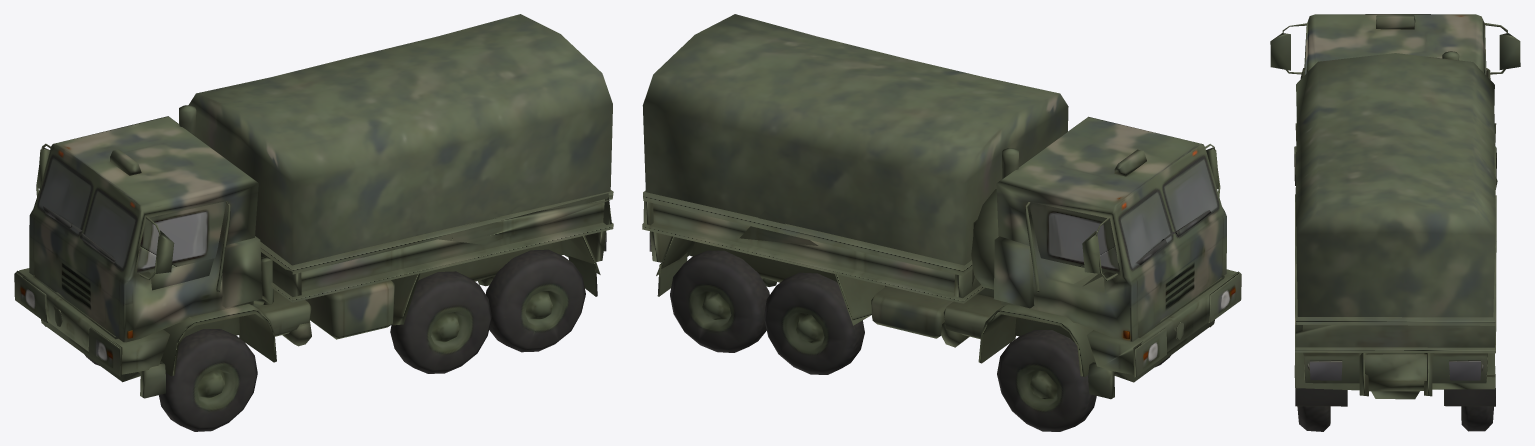
File: cn-supply-truck.glb
3 renders of one model, left to right at view 1: azimuth 30°, elevation 25°; view 2: azimuth 150°, elevation 25°; view 3: azimuth 270°, elevation 25°, orthographic. The views are drawn at different scales.
Visible parts, largest first — view 1: geometry_0; view 2: geometry_0; view 3: geometry_0.
Boxes of the visible parts, x1,y1,x2,y2 form: geometry_0: (14, 14, 613, 431); geometry_0: (642, 14, 1241, 431); geometry_0: (1270, 14, 1520, 431).
Size of the model in its own units: 1 by 0.5173 by 0.4581.
1 material, 1 textured.
